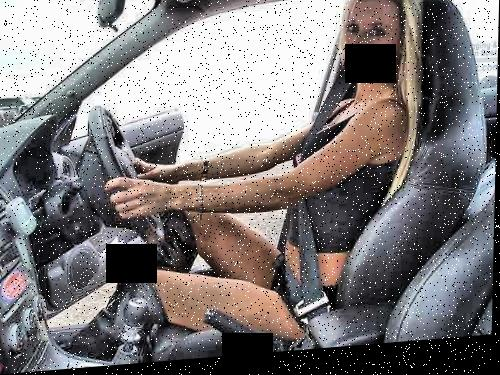seatbelt: (277, 69, 354, 334)
